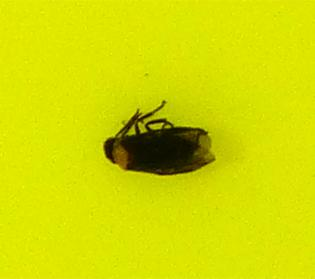Coleoptera: (100, 100, 215, 179)
